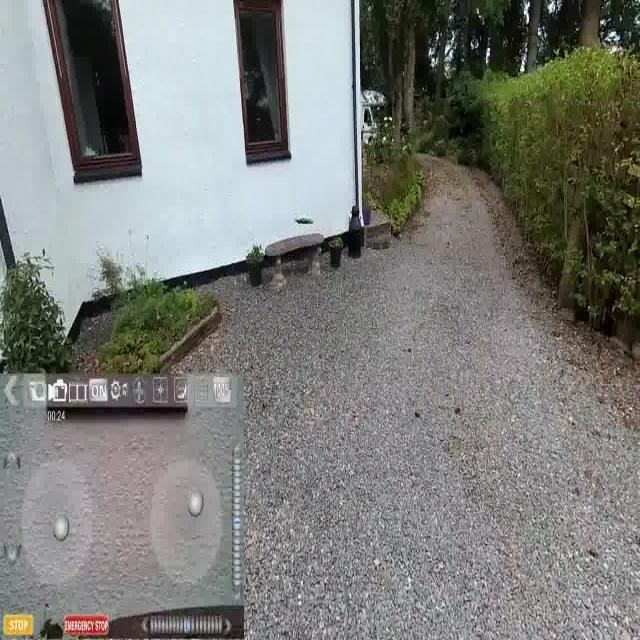drones: (286, 208, 319, 231)
